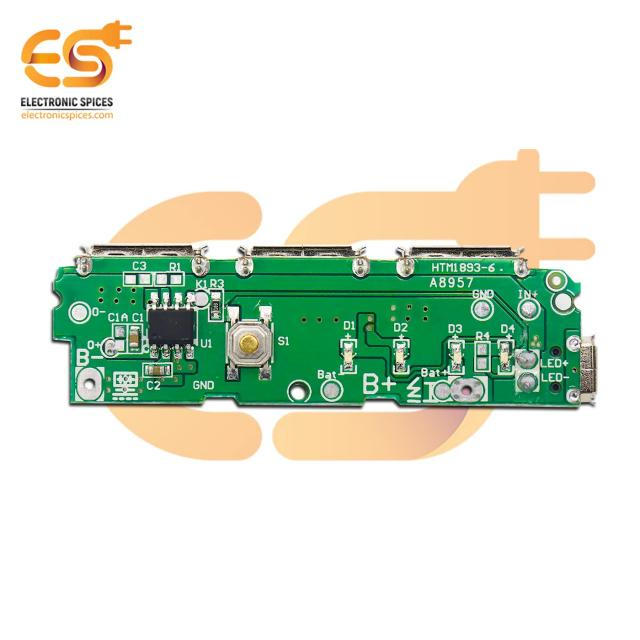2235: (227, 317, 274, 374)
IC: (145, 299, 200, 352)
LED: (393, 342, 407, 372), (499, 342, 511, 372), (449, 343, 462, 370), (343, 342, 355, 370)
capacitor 1V5: (146, 365, 169, 377), (129, 326, 139, 350)
resistor IR1: (211, 297, 222, 316)
